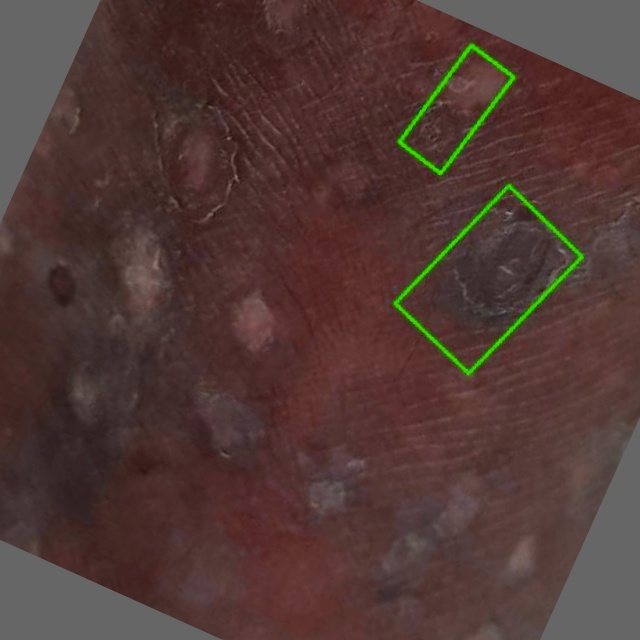Contact Dermatitis: (395, 186, 581, 374), (398, 45, 513, 173)
